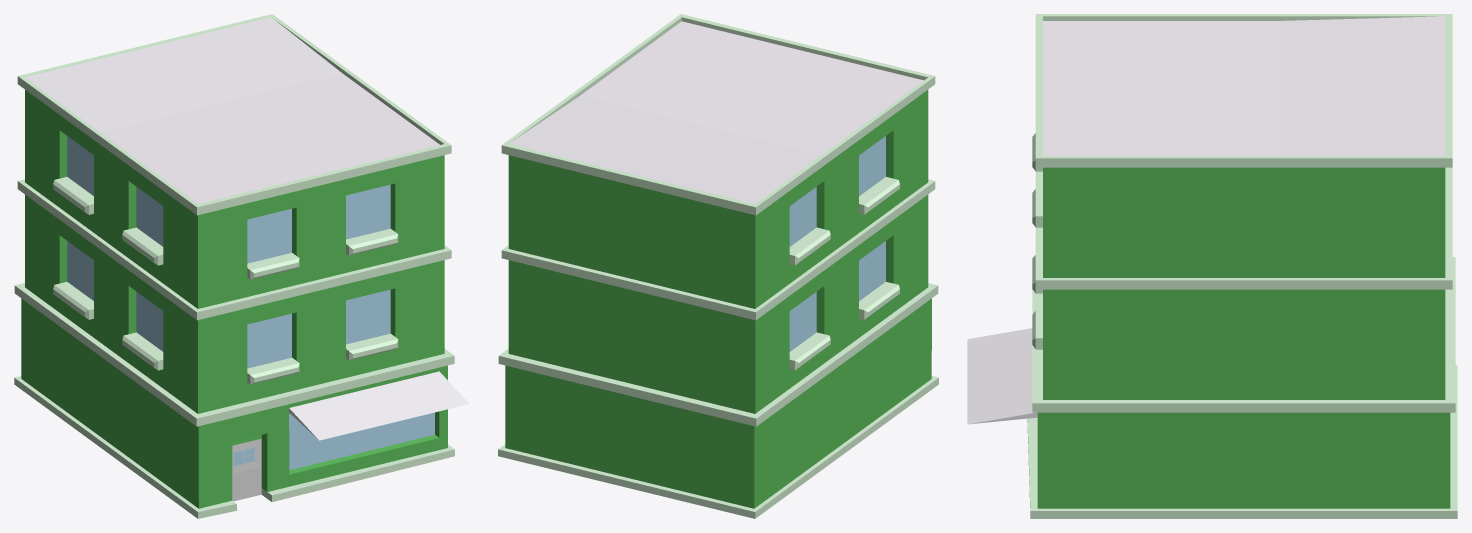
Rendered from storeB.fbx.
The picture shows the model from 3 angles, left to right: view 1: azimuth 30°, elevation 25°; view 2: azimuth 150°, elevation 25°; view 3: azimuth 270°, elevation 25°; orthographic projection. The views are drawn at different scales.
Parts seen in each view (by area): view 1: StoreB; view 2: StoreB; view 3: StoreB.
Boxes of the visible parts, left/top/right/bottom form: StoreB: left=14, top=14, right=469, bottom=518; StoreB: left=498, top=14, right=938, bottom=518; StoreB: left=967, top=14, right=1457, bottom=518.
Size of the model in its own units: 1685 by 1918 by 2367.
